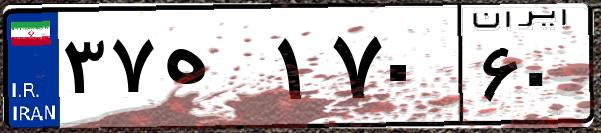0: (385, 28, 445, 110), (525, 38, 570, 115)
1: (270, 28, 330, 110)
3: (57, 26, 110, 100)
6: (475, 38, 525, 113)
7: (330, 28, 385, 110), (110, 28, 158, 98)
ه: (158, 20, 270, 120)
